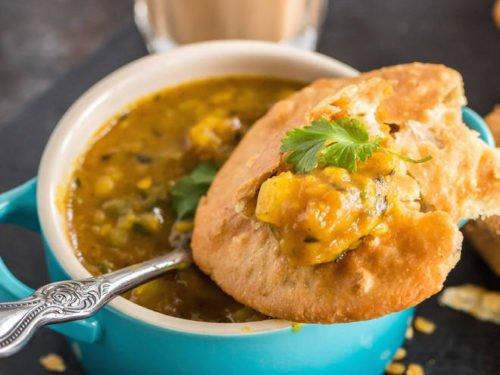kachori: (62, 66, 500, 345)
